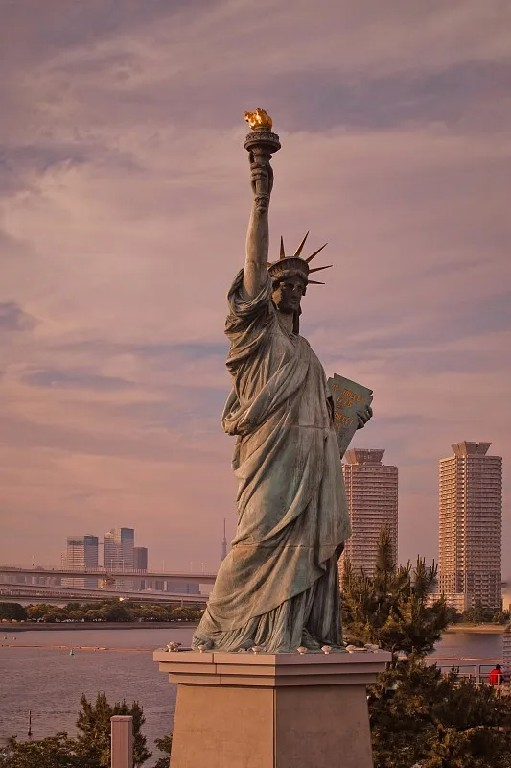SL: (153, 109, 392, 768)
